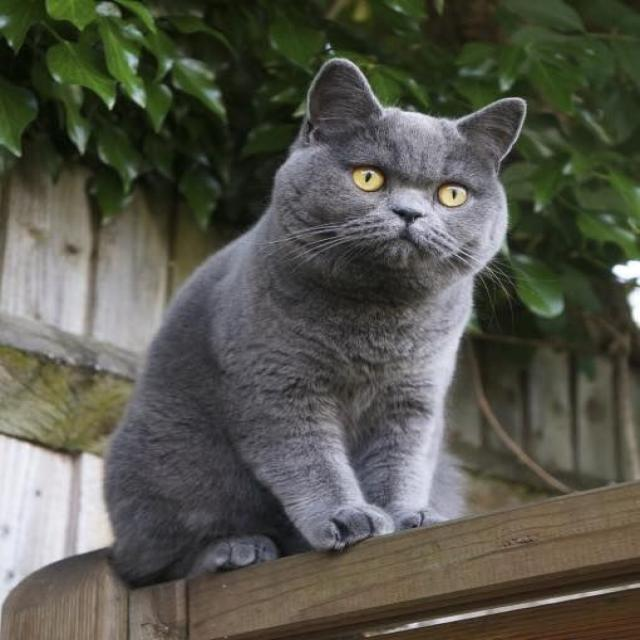british shorthair: (96, 52, 640, 624)
